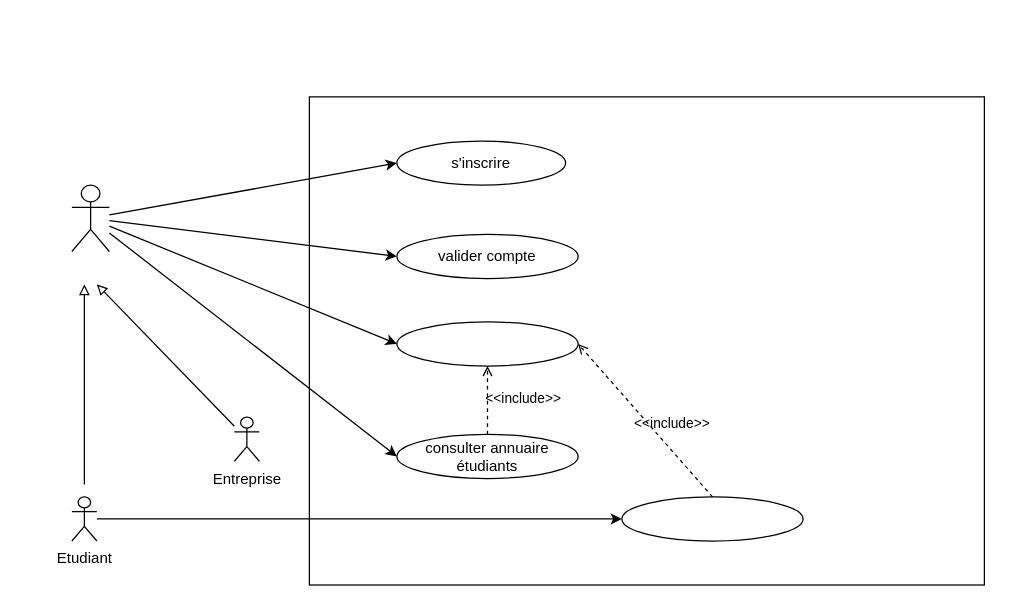
Image size: 1030x606. Some labels were removed from this diagram. Here are the shapes that lost their labels. From the top down, the centre of each, then its label:
(x=90, y=218): Utilisateur
(x=487, y=343): s'authentifier
(x=712, y=518): mette à jour son profil
